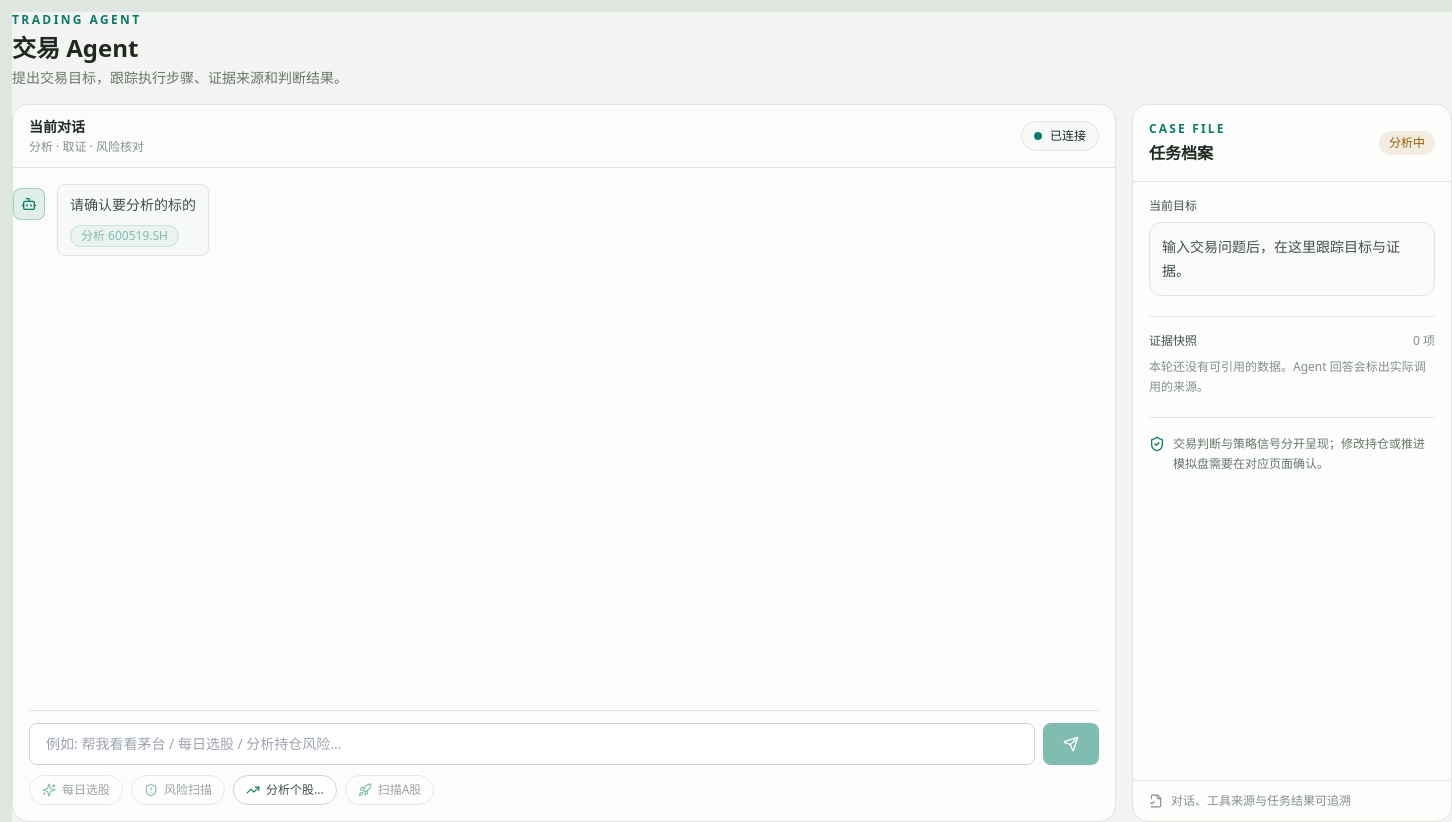
Chat clarify options while busy › prefills the input with feedback instead of silently dropping the click
Click the button "分析 600519.SH". click: (124, 236)
box: [70,225,179,247]
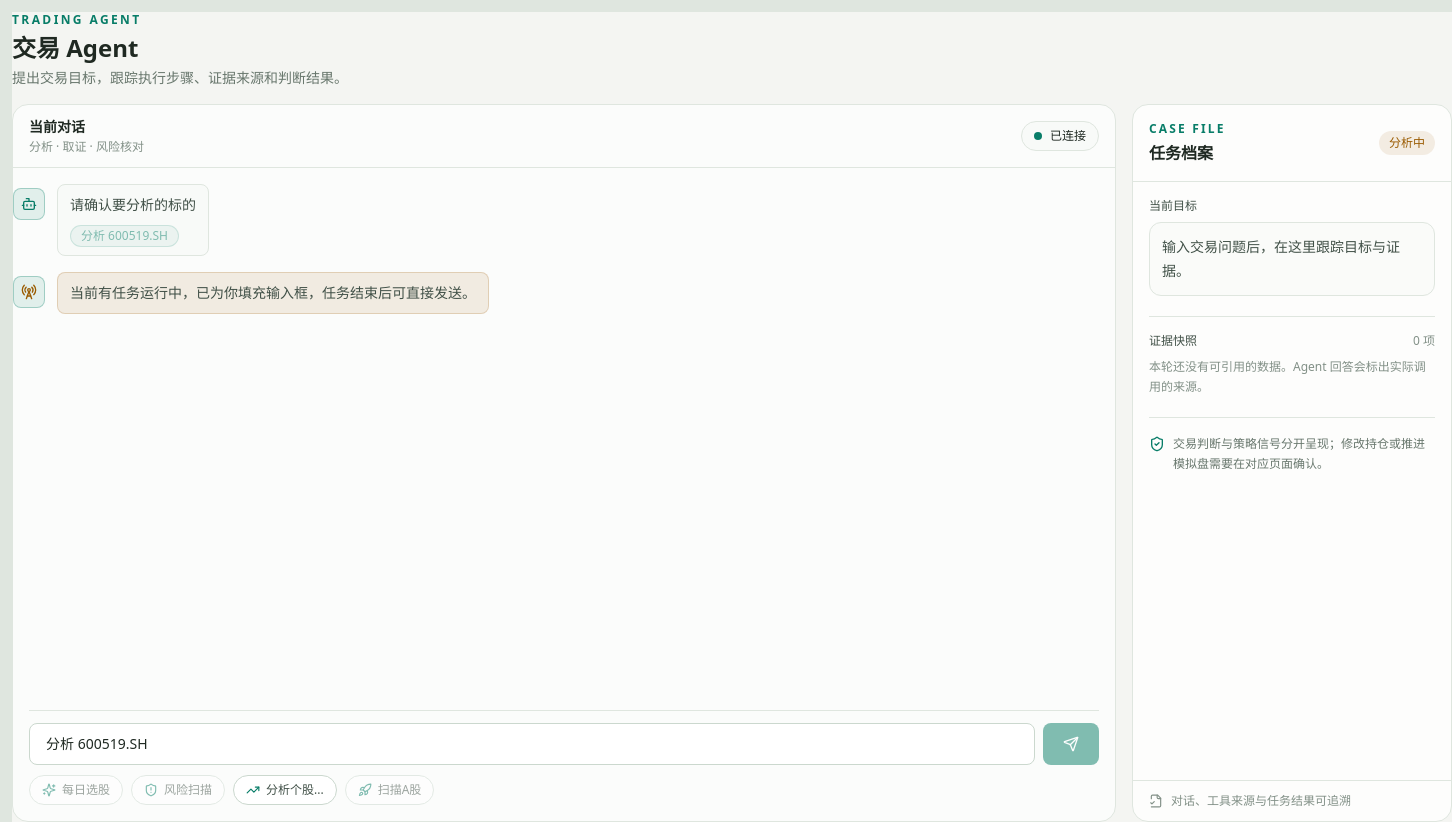
Check: the field with placeholder "例如: 帮我看看茅台 / 每日选股 / 分析持仓风险..." holds "分析 600519.SH", box [29,723,1035,765]
